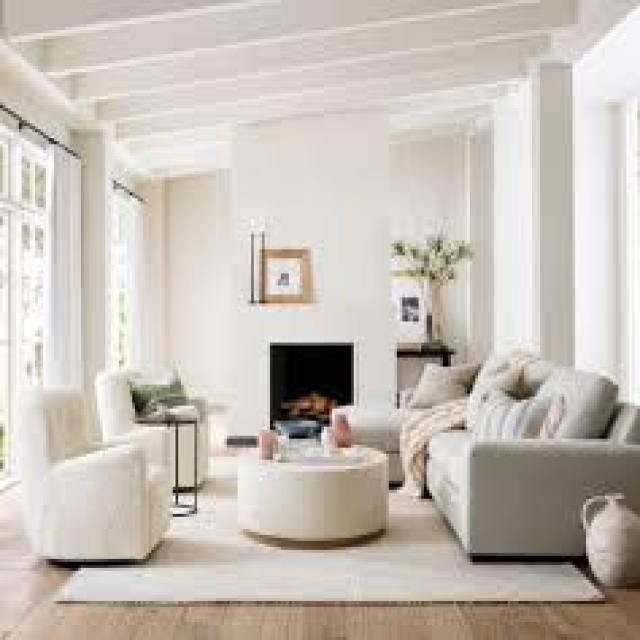Chair: (15, 365, 228, 567)
Sofa: (409, 364, 628, 552)
Table: (238, 436, 393, 540)
